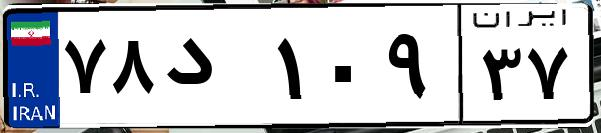0: (330, 28, 385, 110)
1: (270, 28, 330, 110)
3: (475, 38, 525, 113)
7: (57, 26, 110, 100), (525, 38, 570, 115)
8: (110, 28, 158, 98)
9: (385, 28, 445, 110)
د: (158, 20, 270, 120)
